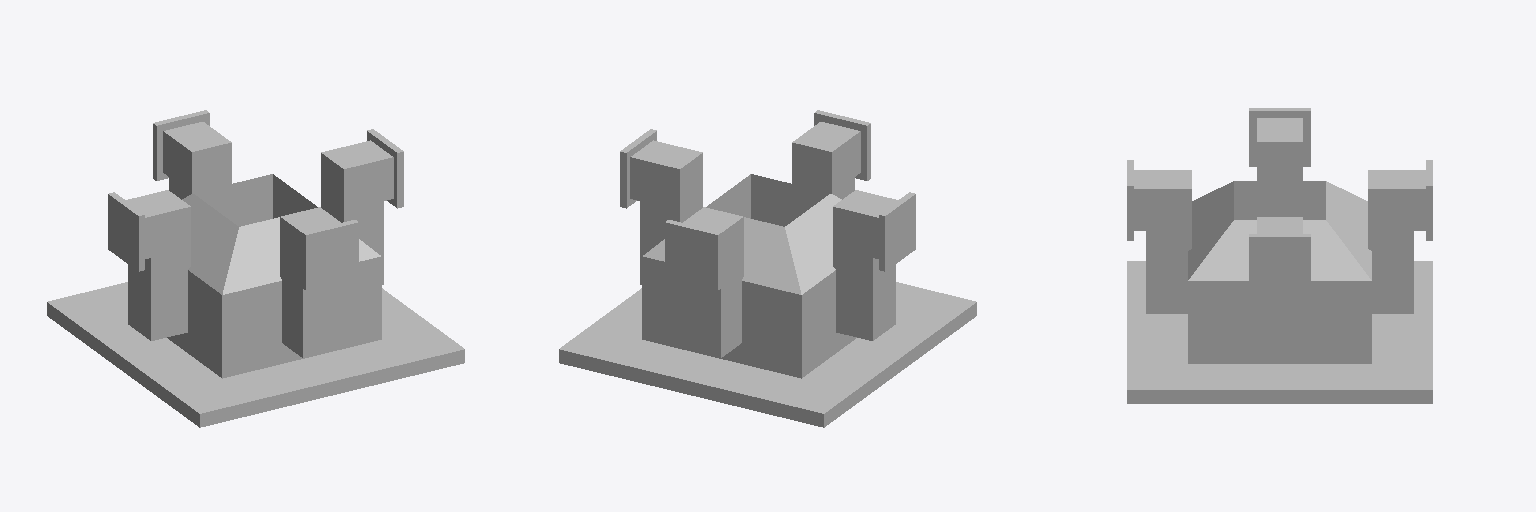
The model's file is TileAlchemyPlant.obj.
The picture shows the model from 3 angles: view 1: azimuth 30°, elevation 25°; view 2: azimuth 150°, elevation 25°; view 3: azimuth 270°, elevation 25°; orthographic projection.
Parts seen in each view (by area): view 1: ___________2; view 2: ___________2; view 3: ___________2.
Part boxes in pixels (left/top/right/bottom): ___________2: left=47, top=110, right=464, bottom=427; ___________2: left=559, top=110, right=976, bottom=427; ___________2: left=1127, top=108, right=1432, bottom=403.
Bounding box in the file's own units: 1 × 0.6 × 1.